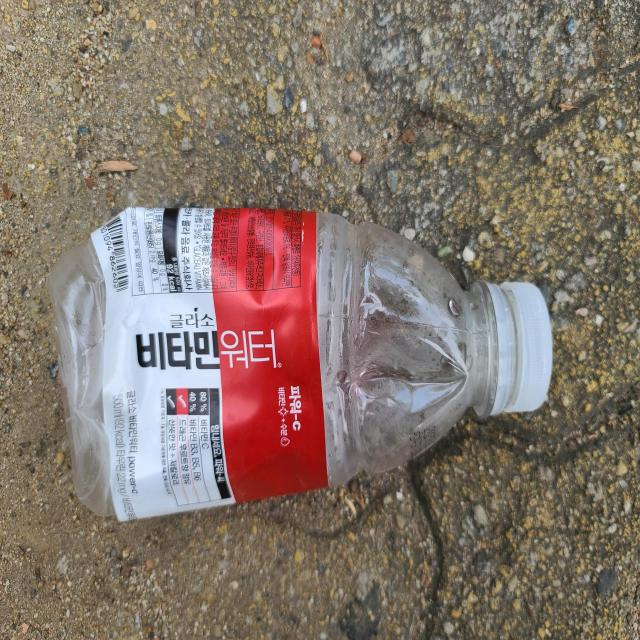plastic: (47, 208, 553, 522)
